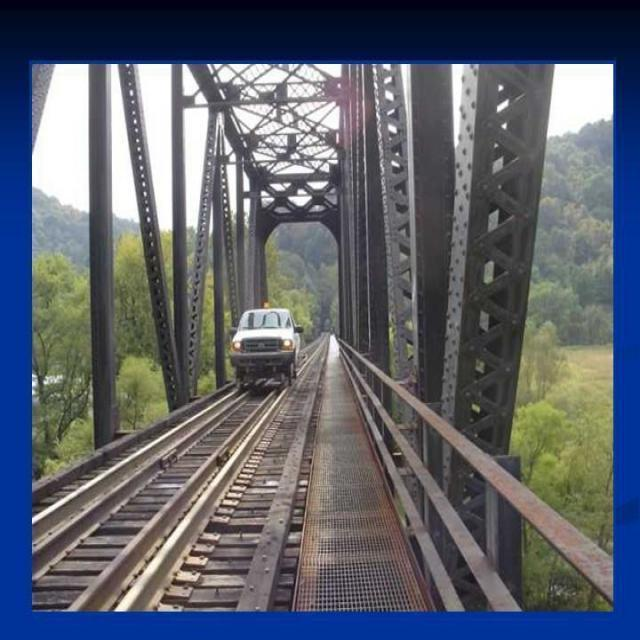danger: (219, 295, 307, 394)
rail: (68, 390, 289, 613), (31, 389, 255, 583), (296, 335, 328, 376), (301, 334, 325, 354)
